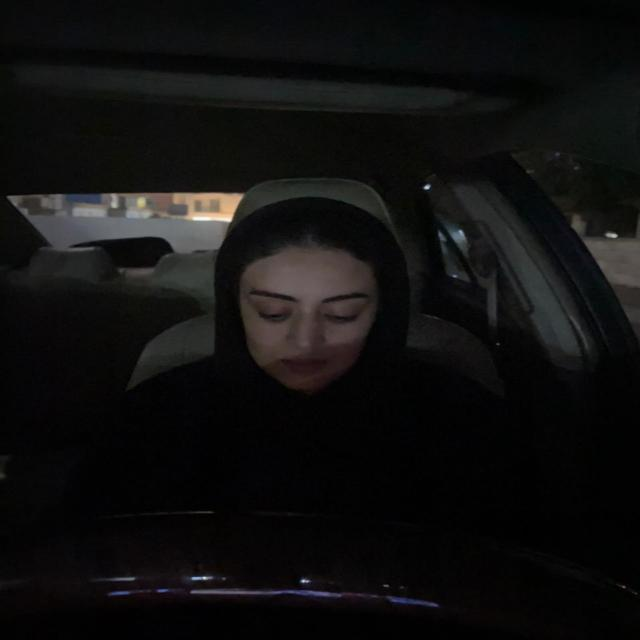person: (214, 195, 414, 403)
